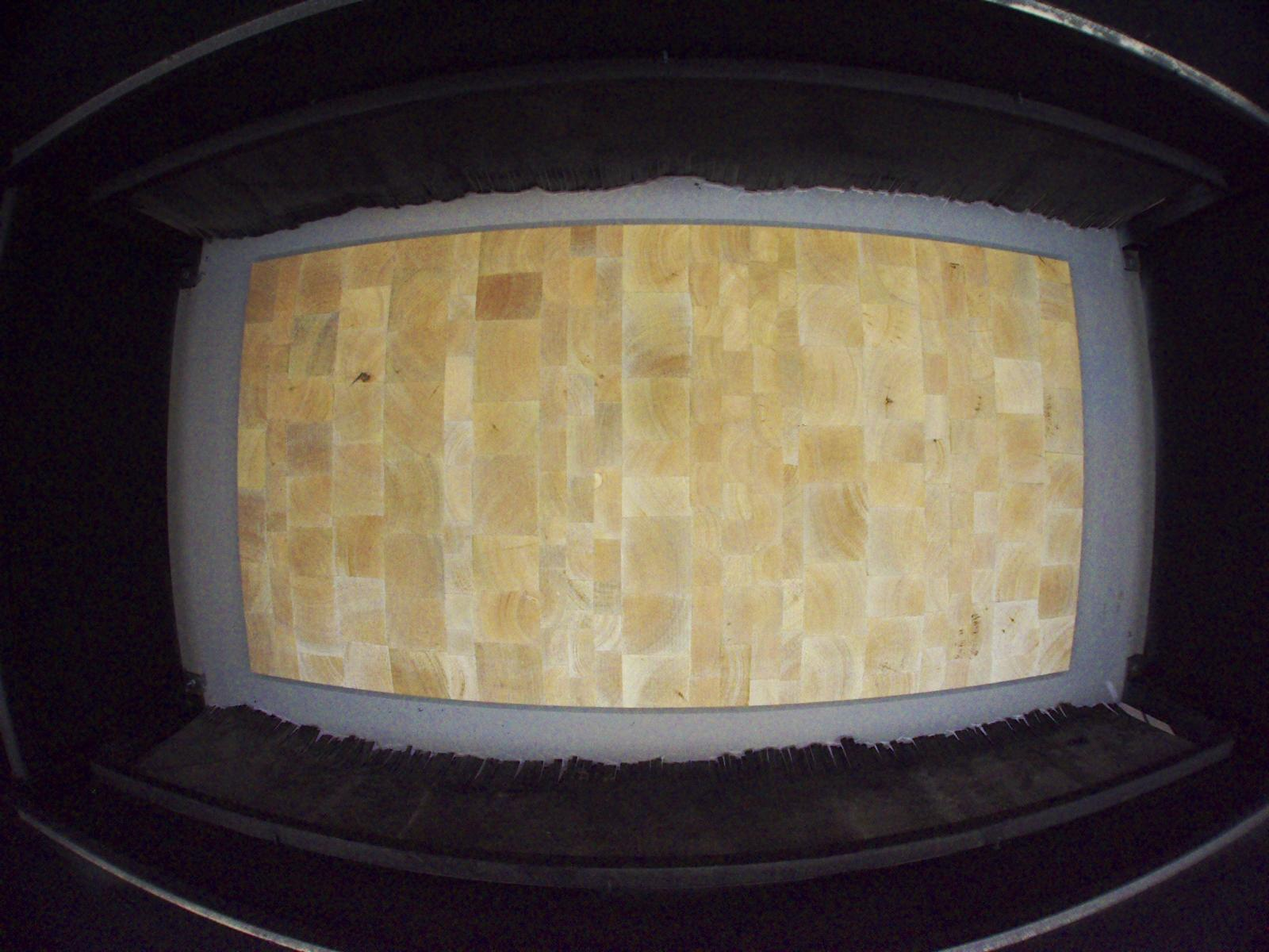nudillo: (357, 370, 375, 385)
